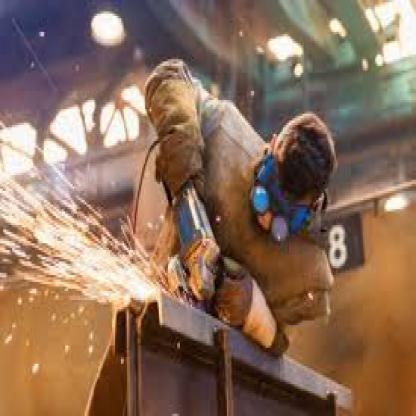with_gloves: (214, 262, 256, 334)
